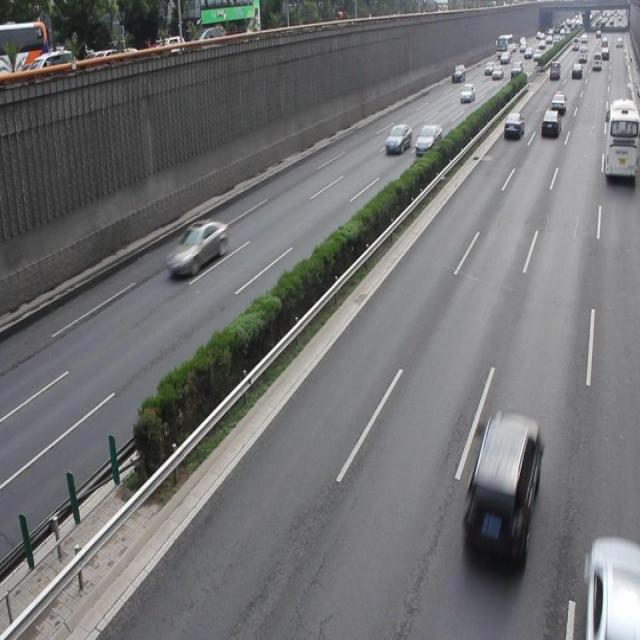car: (461, 408, 541, 567), (584, 537, 640, 640), (165, 216, 228, 276)
van: (604, 100, 640, 179)
